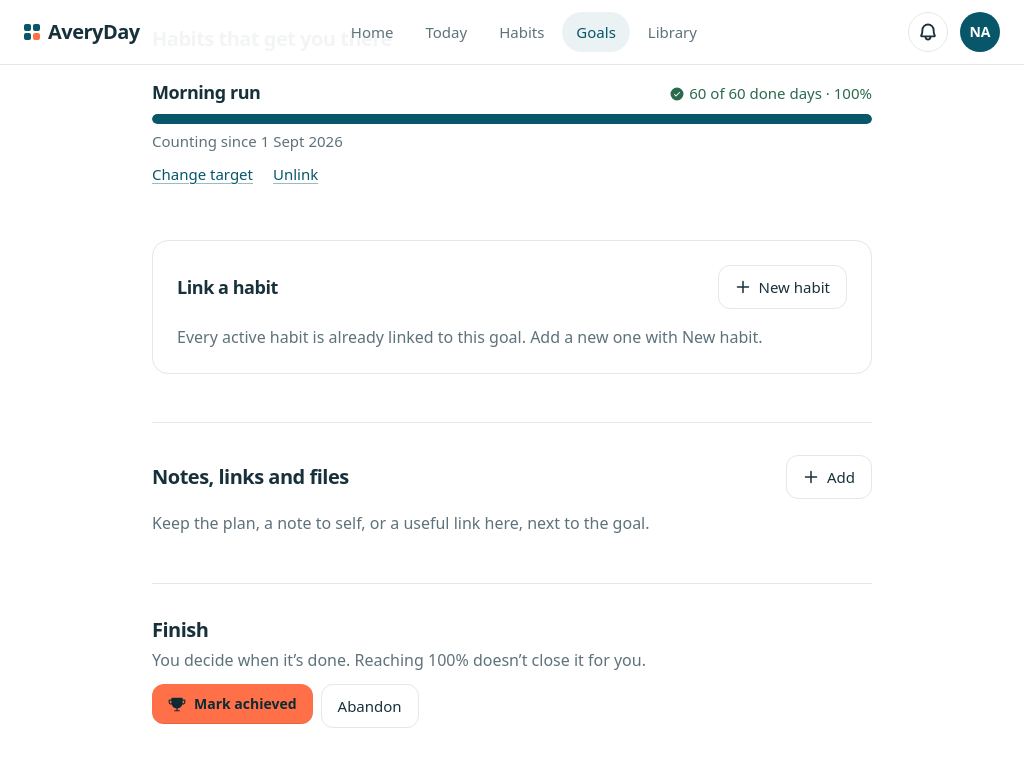
Test case: goal detail › asks before marking achieved, then shows it achieved with nothing left to change
(page scrolled)
Click the button "Mark achieved" at (232,704), box [152, 684, 313, 724]
(page scrolled)
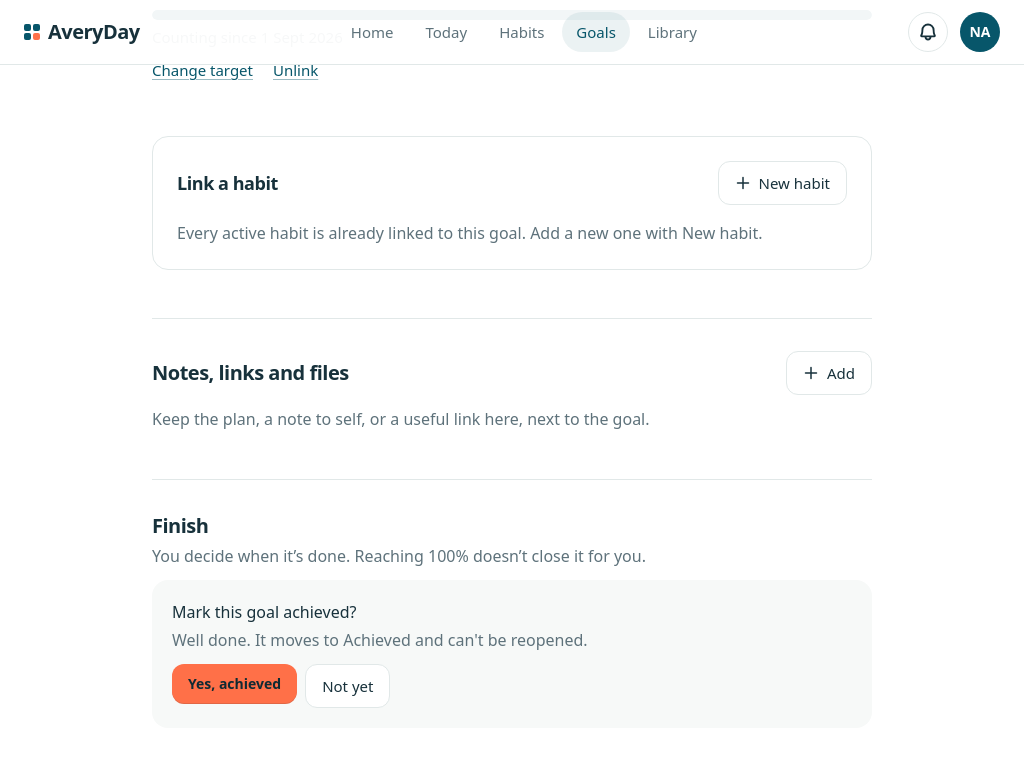
Click the button "Yes, achieved" at (235,684), box [172, 664, 297, 704]
(page scrolled)
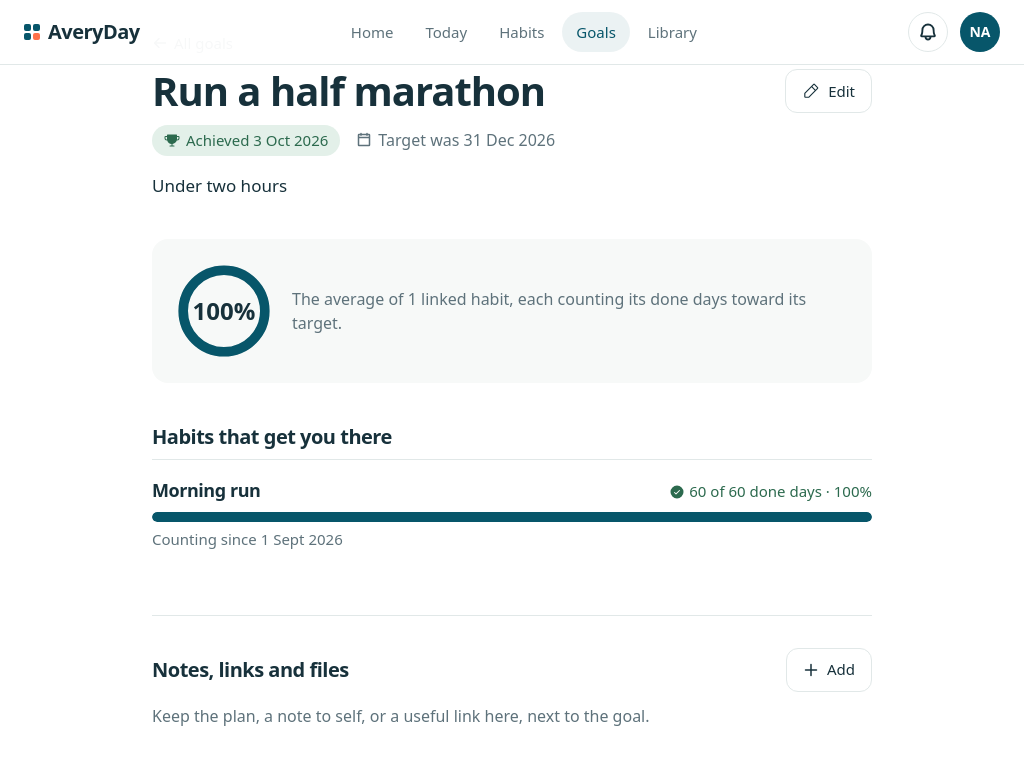
Check: the text "Achieved 3 Oct 2026" is shown, box [152, 125, 340, 156]
Check: the text "Target was 31 Dec 2026" is shown, box [378, 128, 555, 152]
Check: the heading "Link a habit" is gone
